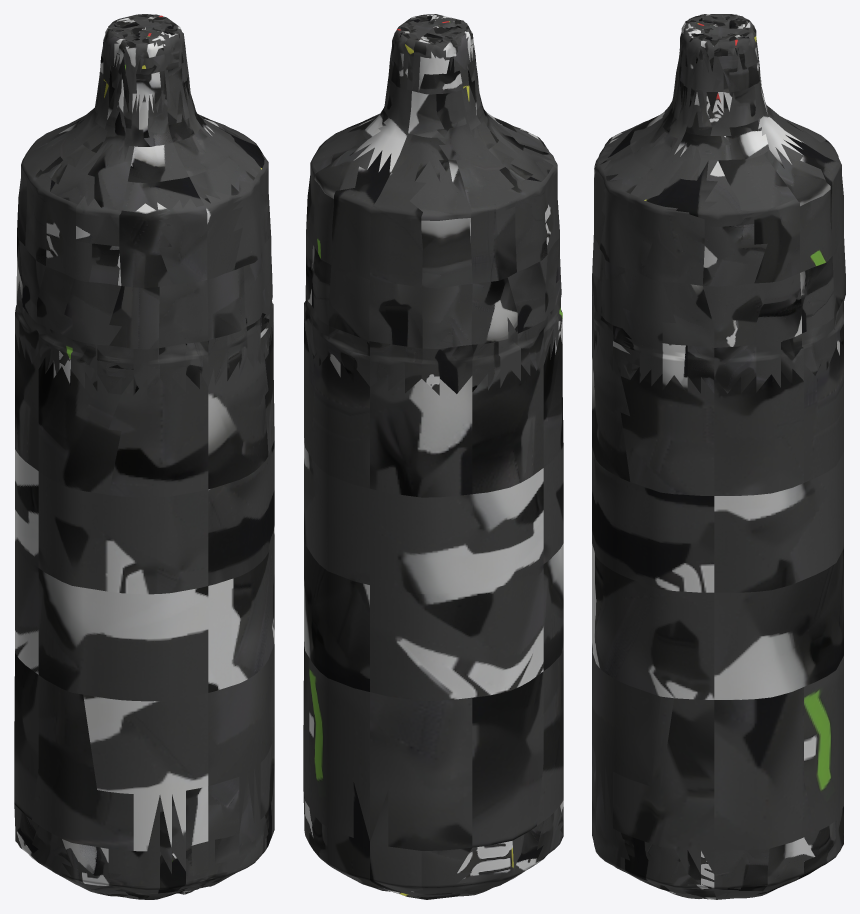
The model's file is vape.fbx.
3 renders of one model, left to right at view 1: azimuth 30°, elevation 25°; view 2: azimuth 150°, elevation 25°; view 3: azimuth 270°, elevation 25°, orthographic.
Visible parts, largest first — view 1: Mesh_0.001; view 2: Mesh_0.001; view 3: Mesh_0.001.
Boxes of the visible parts, x1,y1,x2,y2 form: Mesh_0.001: [14, 14, 274, 899]; Mesh_0.001: [303, 14, 563, 899]; Mesh_0.001: [592, 14, 845, 899].
Size of the model in its own units: 4.75 by 17.4 by 4.75.
